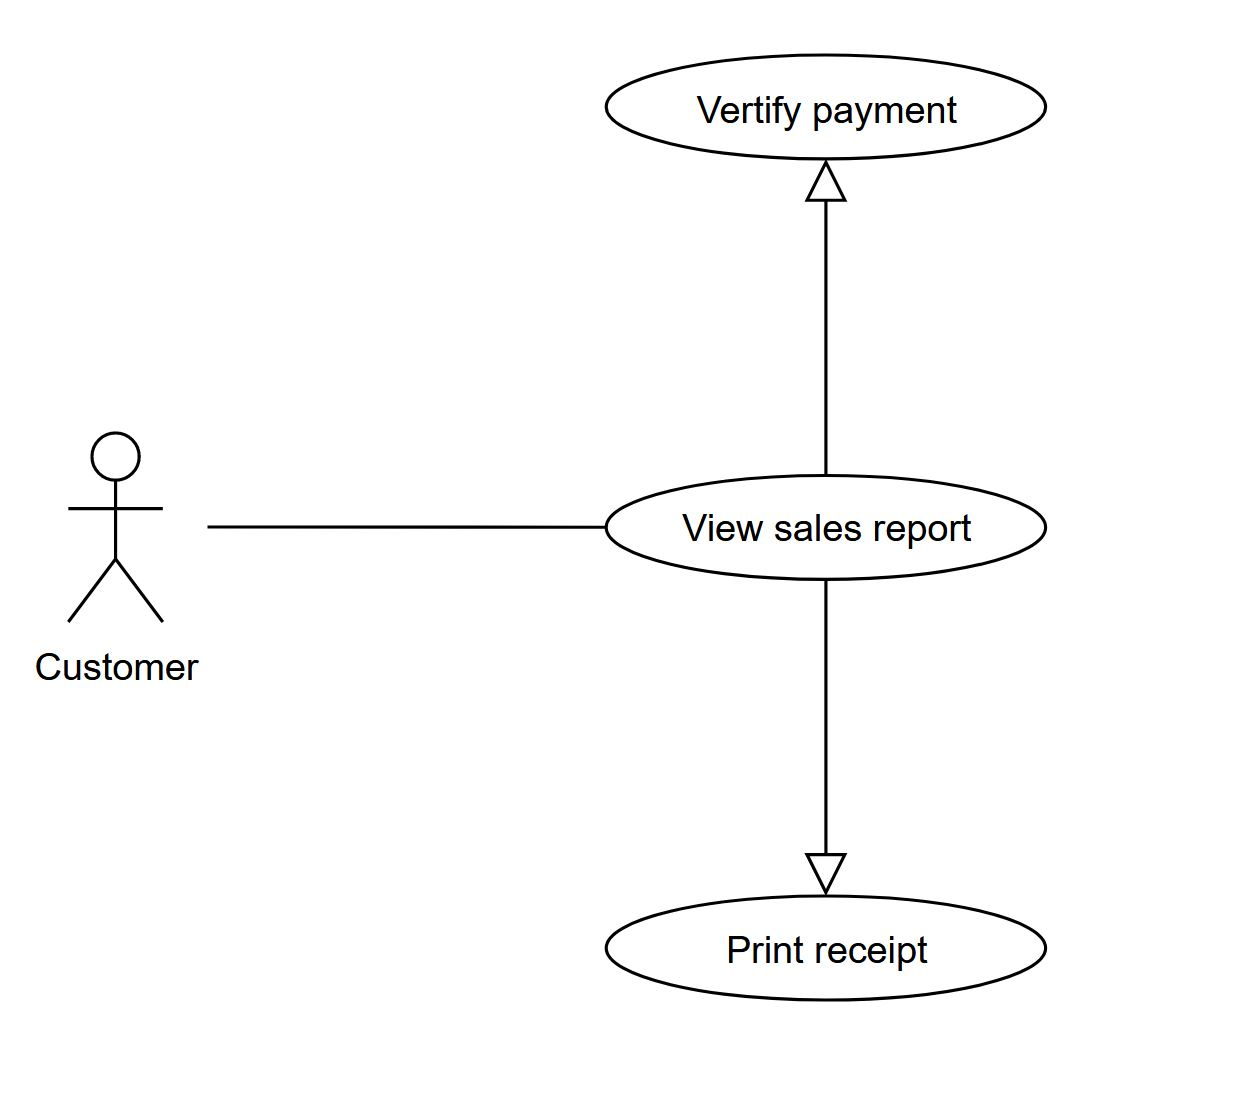actor: (54, 434, 175, 631)
association: (200, 502, 605, 542)
generalization: (799, 160, 845, 469), (806, 580, 848, 895)
text: (698, 83, 960, 137), (680, 508, 982, 552), (721, 926, 938, 973), (32, 650, 208, 689)
use_case: (602, 894, 1048, 1007), (605, 50, 1048, 163), (605, 473, 1047, 585)
